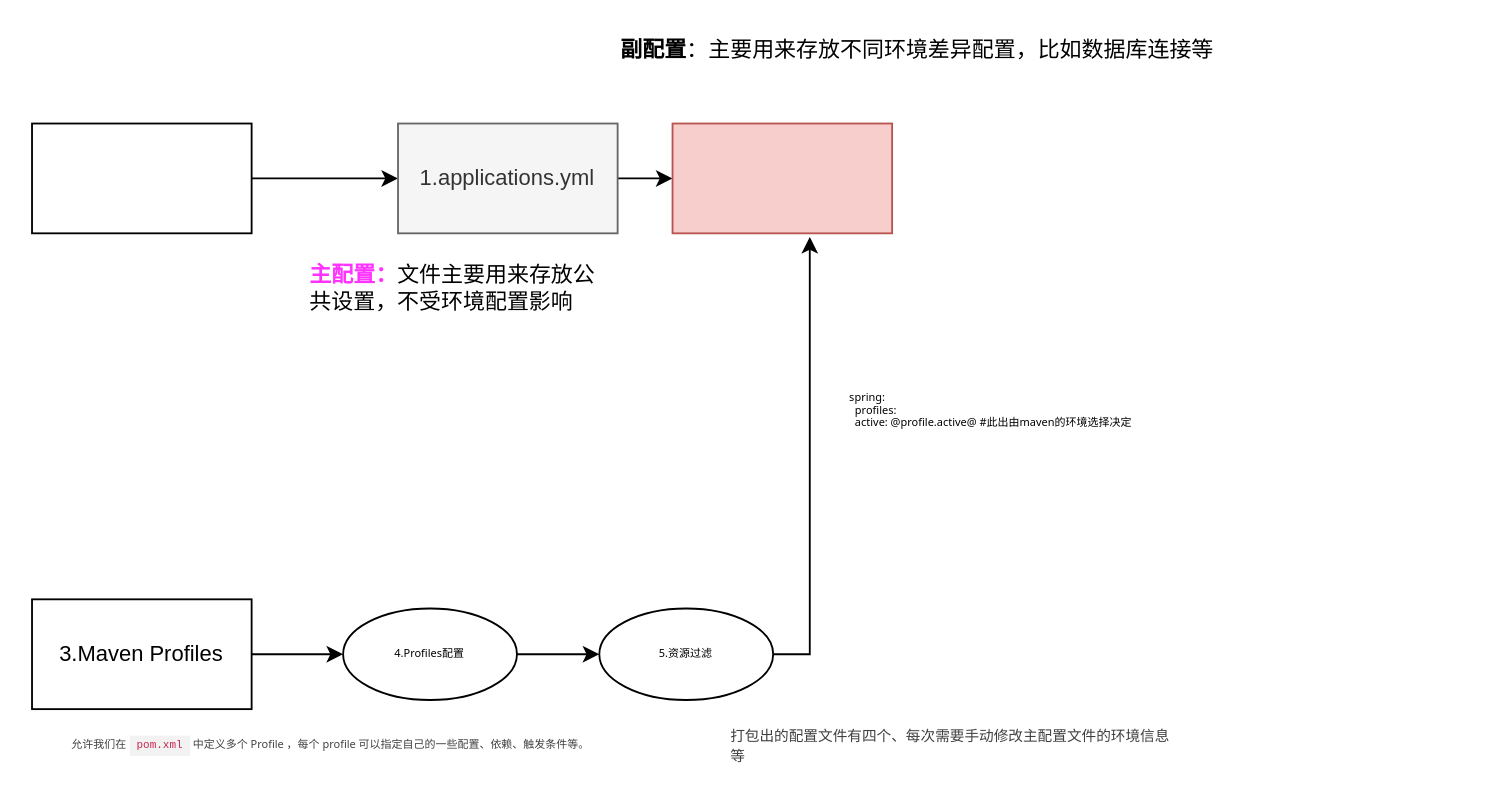
Some shapes in this 1491 by 794 pixel diagram are drawn without their labels. The shapes that lost their labels are listed below. From the top down, each one's centre as x and y in pixels, then its label:
At point (141, 177): "Spring Profiles".
At point (781, 177): "2.dev/prod/test.yml".
